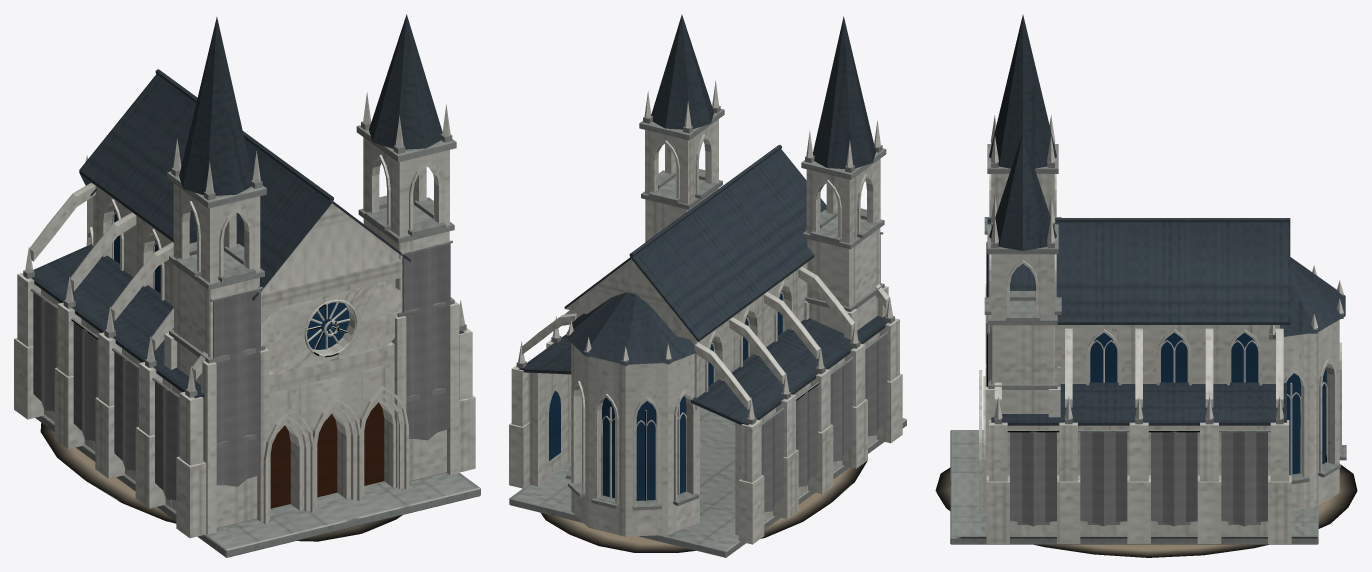
The model's file is cathedral.glb.
3 renders of one model, left to right at view 1: azimuth 30°, elevation 25°; view 2: azimuth 150°, elevation 25°; view 3: azimuth 270°, elevation 25°, orthographic. The views are drawn at different scales.
Parts seen in each view (by area): view 1: LOD0; view 2: LOD0; view 3: LOD0.
Part boxes in pixels (left/top/right/bottom): LOD0: left=14, top=14, right=480, bottom=557; LOD0: left=509, top=14, right=906, bottom=557; LOD0: left=935, top=15, right=1357, bottom=557.
Size of what is drawn, in the model's own units: 1.33 by 2.06 by 1.8.
3 materials, 3 textured.
